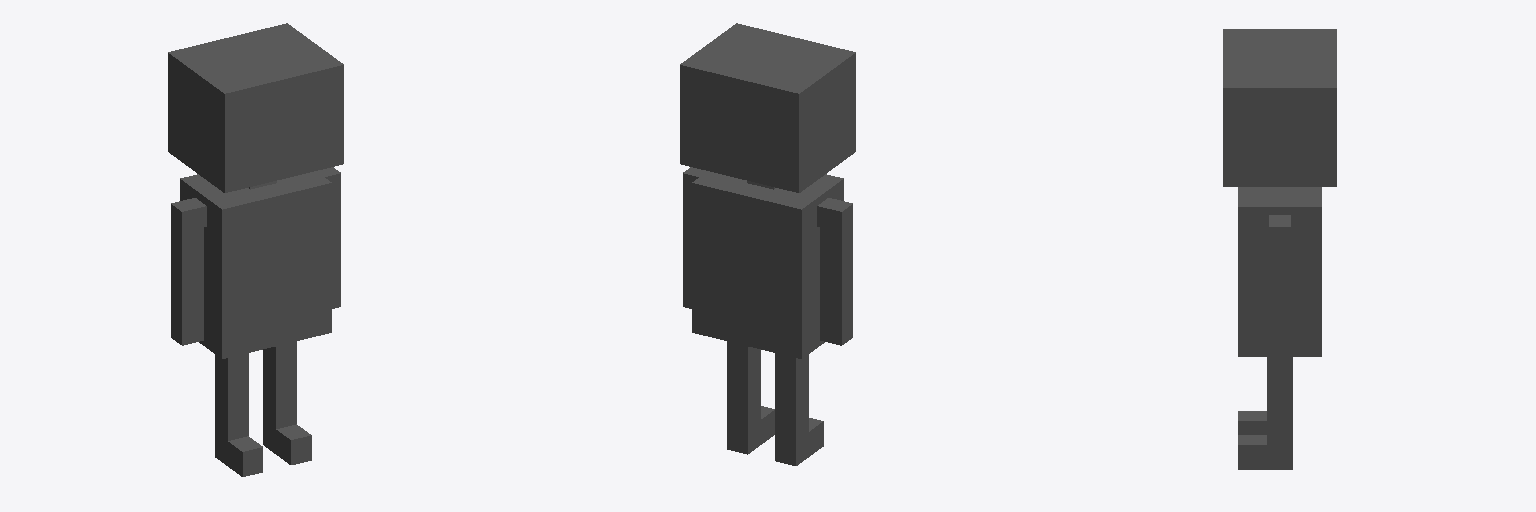
Rendered from King.obj.
3 renders of one model, left to right at view 1: azimuth 30°, elevation 25°; view 2: azimuth 150°, elevation 25°; view 3: azimuth 270°, elevation 25°, orthographic.
Parts seen in each view (by area): view 1: Cube; view 2: Cube; view 3: Cube.
Boxes of the visible parts, x1=… form: Cube: x1=168, y1=23, x2=343, y2=476; Cube: x1=680, y1=23, x2=855, y2=465; Cube: x1=1223, y1=29, x2=1336, y2=469.
Size of the model in its own units: 2.66 by 6.31 by 1.65.